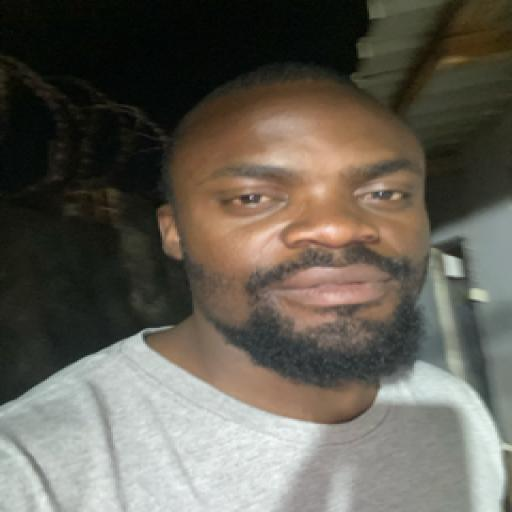JEANLUC: (158, 72, 438, 400)
